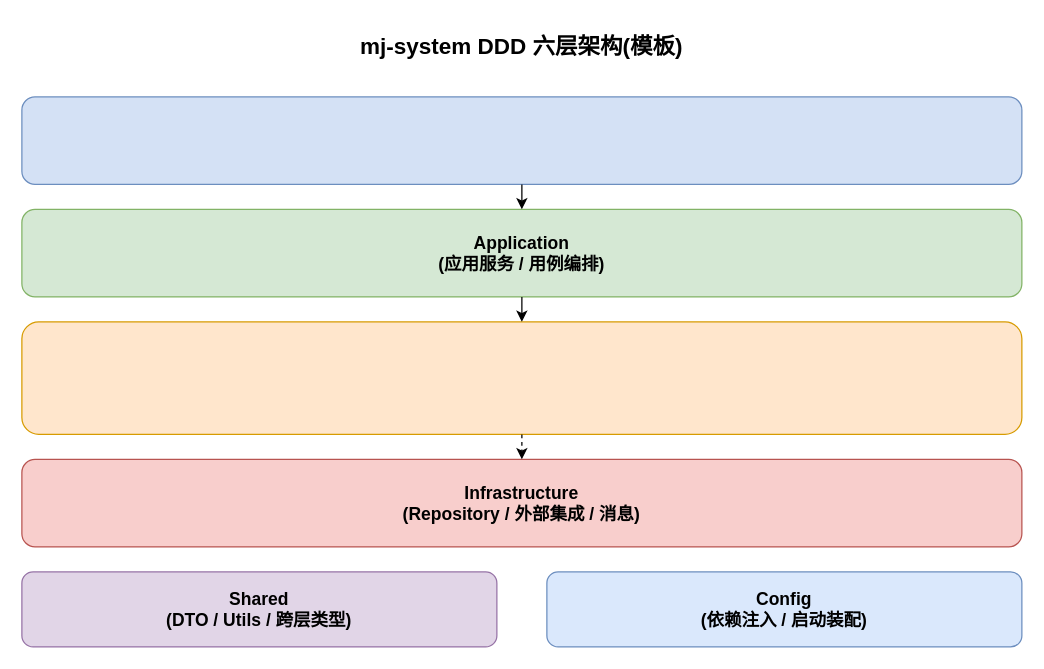
The diagram is 1044 pixels wide and 669 high, and some of its shapes have lost their labels. Here are the shapes that lost their labels. From the top down, the centre of each, then its label:
the point at 521,140: Interface (Controller / API)
the point at 521,377: Domain (聚合 / 实体 / 值对象 / 领域服务)
